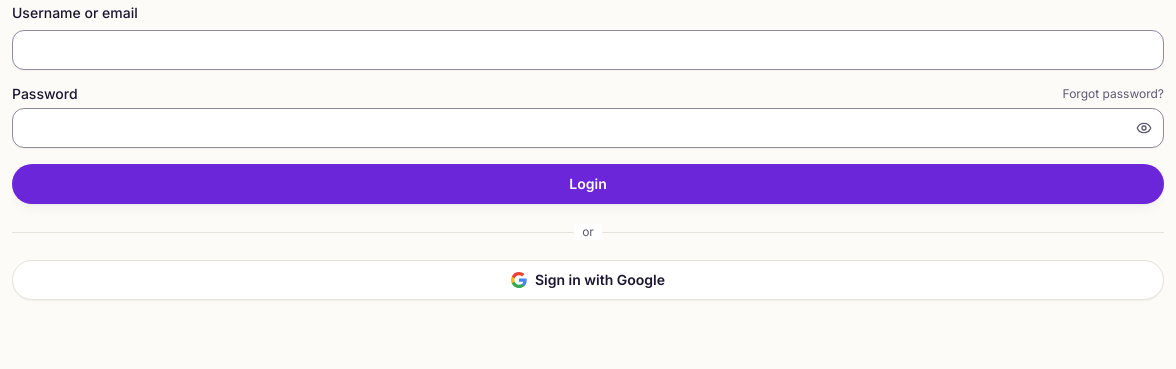
Scenario: LoginForm › shows validation errors when submitting empty form
The width and height of the screenshot is (1176, 369).
Click the button with test id "submit-button" at {"x": 588, "y": 184}, box [12, 164, 1164, 204]
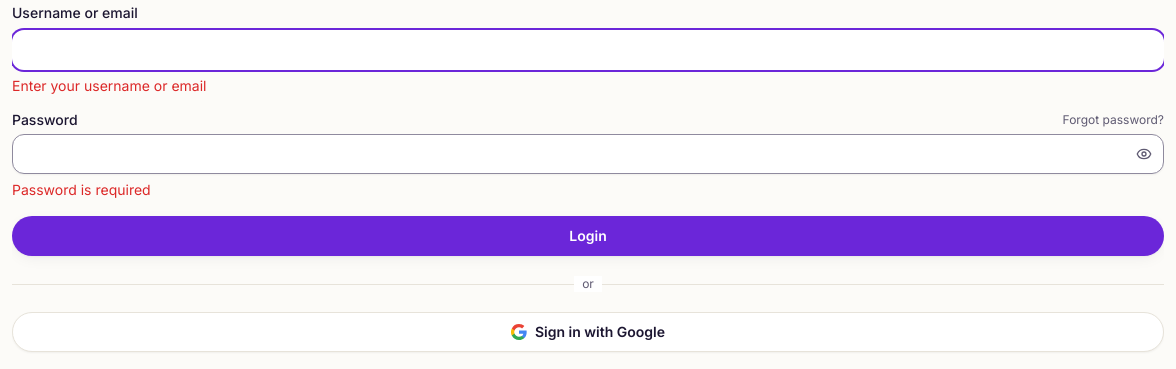
Result: the text "Enter your username or email" is shown at [12, 77, 206, 94]
